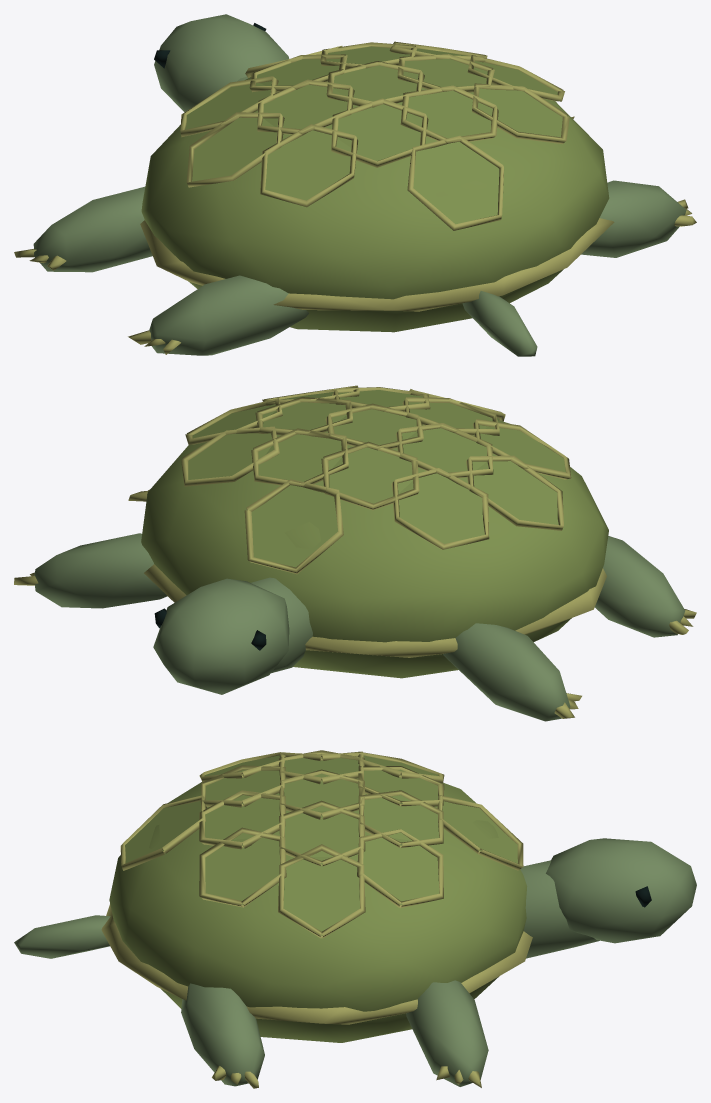
The model's file is turtle-vlow.glb.
The picture shows the model from 3 angles, top to bottom: view 1: azimuth 30°, elevation 25°; view 2: azimuth 150°, elevation 25°; view 3: azimuth 270°, elevation 25°; orthographic projection. The views are drawn at different scales.
Visible parts, largest first — view 1: TURTLE; view 2: TURTLE; view 3: TURTLE.
Part boxes in pixels (x1,y1,x2,y2): TURTLE: (14, 14, 696, 356); TURTLE: (14, 385, 696, 721); TURTLE: (14, 750, 696, 1088).
Size of the model in its own units: 1.16 by 0.4336 by 1.25.
